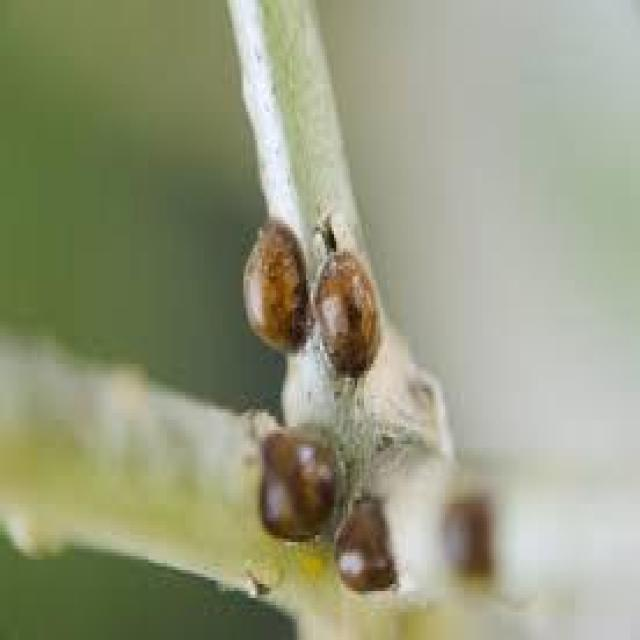Black Scale: (255, 422, 338, 546), (244, 217, 310, 355), (315, 250, 381, 382), (336, 497, 401, 595)
